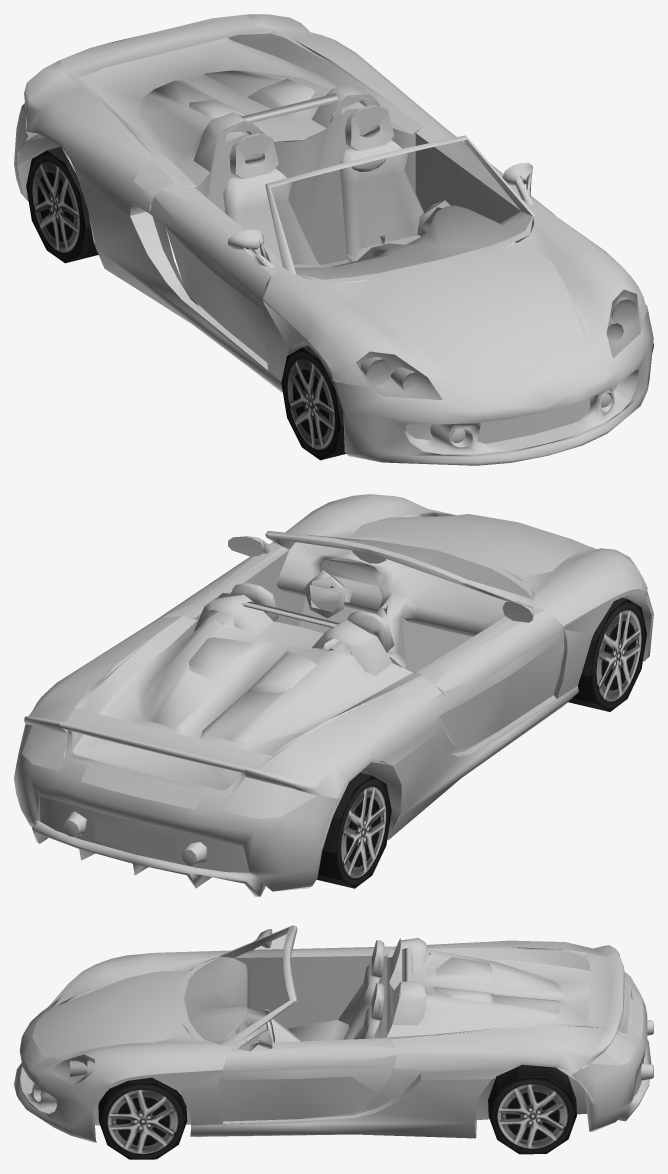
3 renders of one model, top to bottom at view 1: azimuth 30°, elevation 25°; view 2: azimuth 150°, elevation 25°; view 3: azimuth 270°, elevation 25°, orthographic. The views are drawn at different scales.
Parts seen in each view (by area): view 1: hood02; view 2: hood02; view 3: hood02.
Boxes of the visible parts, bbox=[...] form: hood02: bbox=[14, 14, 653, 465]; hood02: bbox=[14, 494, 653, 896]; hood02: bbox=[14, 925, 653, 1159].
Size of the model in its own units: 1.45 by 0.8363 by 3.33.
